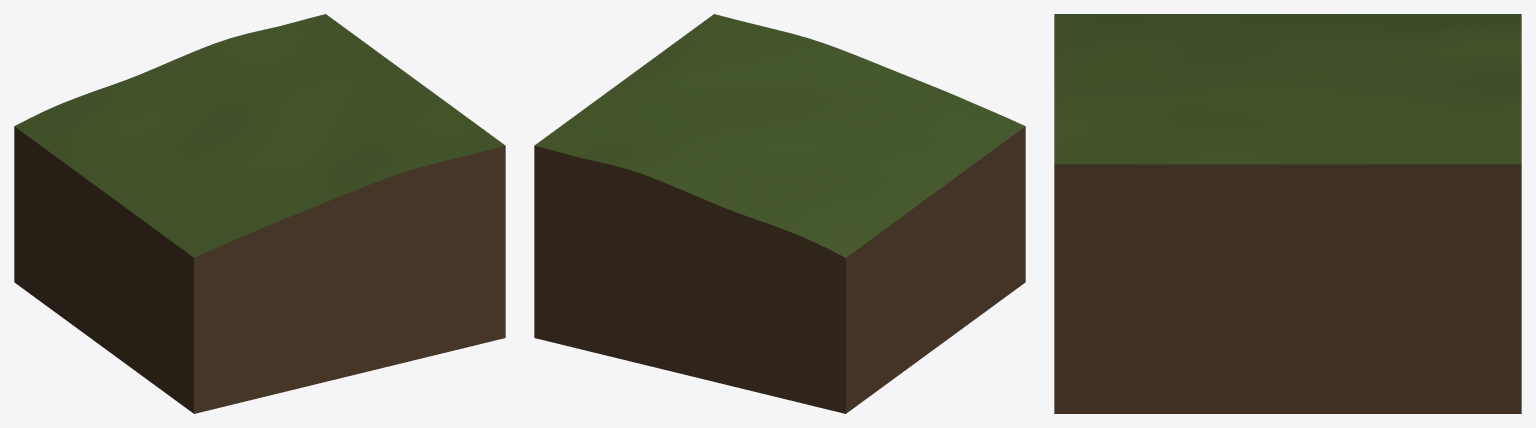
The picture shows the model from 3 angles, left to right: view 1: azimuth 30°, elevation 25°; view 2: azimuth 150°, elevation 25°; view 3: azimuth 270°, elevation 25°; orthographic projection. The views are drawn at different scales.
Parts seen in each view (by area): view 1: e1go; view 2: e1go; view 3: e1go.
Part boxes in pixels (x1,y1,x2,y2): e1go: [14, 14, 505, 413]; e1go: [534, 14, 1025, 413]; e1go: [1054, 14, 1521, 413].
Bounding box in the file's own units: 9 × 5.32 × 9.
